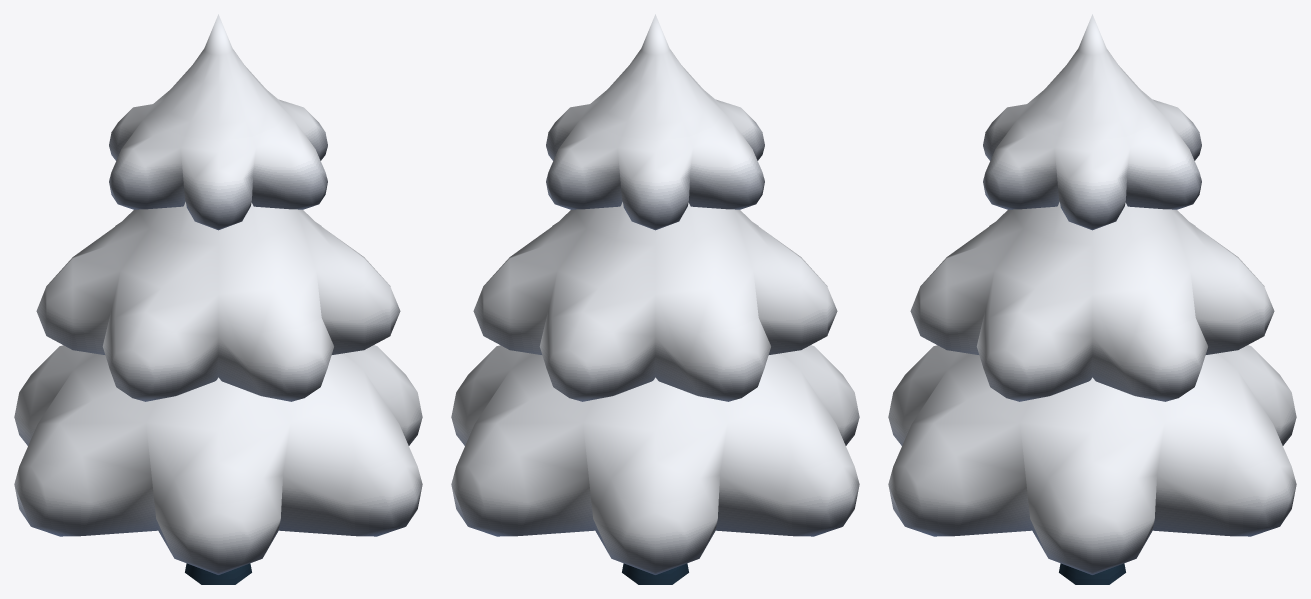
File: SnowTree_02.fbx
The picture shows the model from 3 angles, left to right: view 1: azimuth 30°, elevation 25°; view 2: azimuth 150°, elevation 25°; view 3: azimuth 270°, elevation 25°; orthographic projection.
Visible parts, largest first — view 1: SnowTree_02; view 2: SnowTree_02; view 3: SnowTree_02.
Boxes of the visible parts, bbox=[...] form: SnowTree_02: bbox=[14, 14, 422, 584]; SnowTree_02: bbox=[451, 14, 859, 584]; SnowTree_02: bbox=[888, 14, 1296, 584].
Bounding box in the file's own units: 1.05 × 1.42 × 0.9406.
